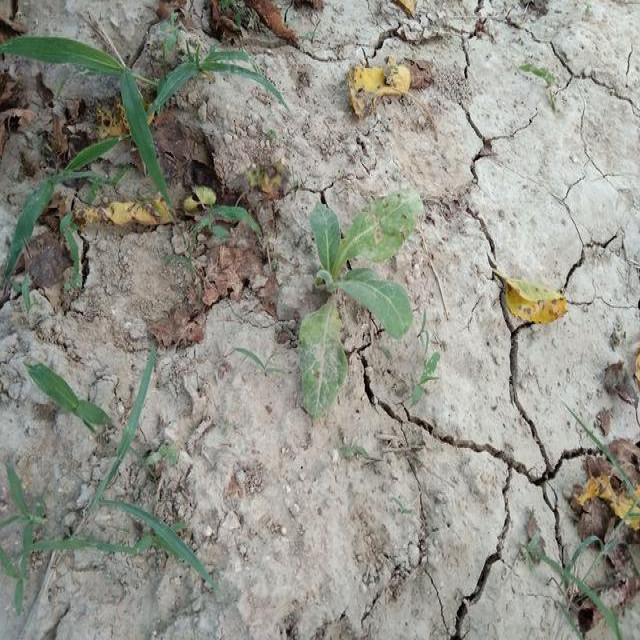crop: (302, 197, 426, 425)
